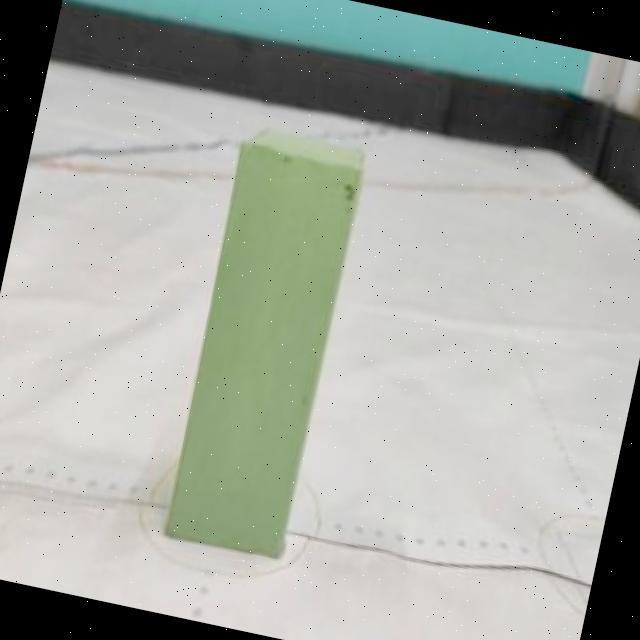greenbox: (161, 125, 366, 558)
